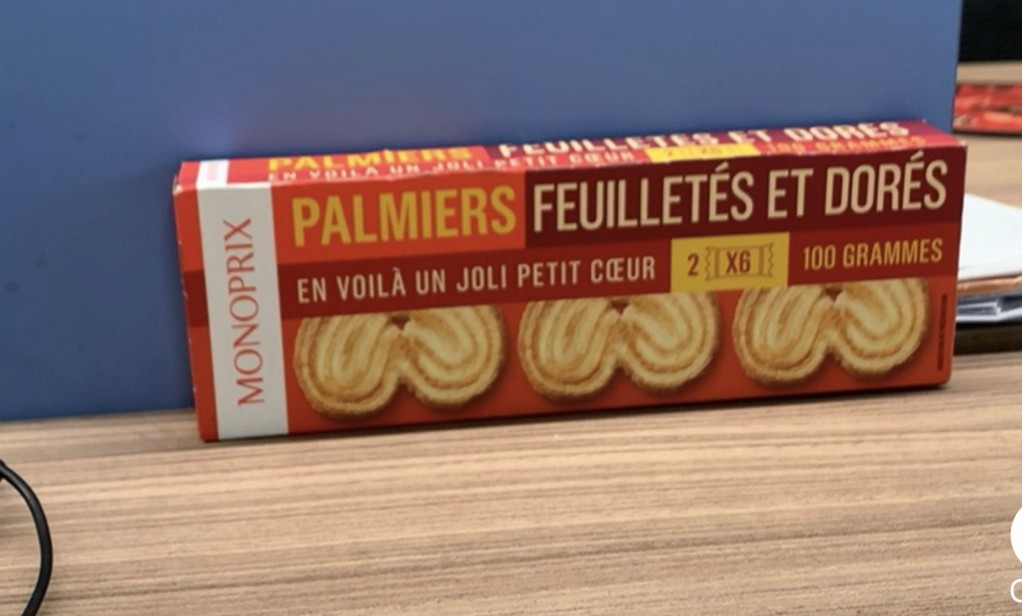cookies_100g-199g: (226, 188, 932, 373)
